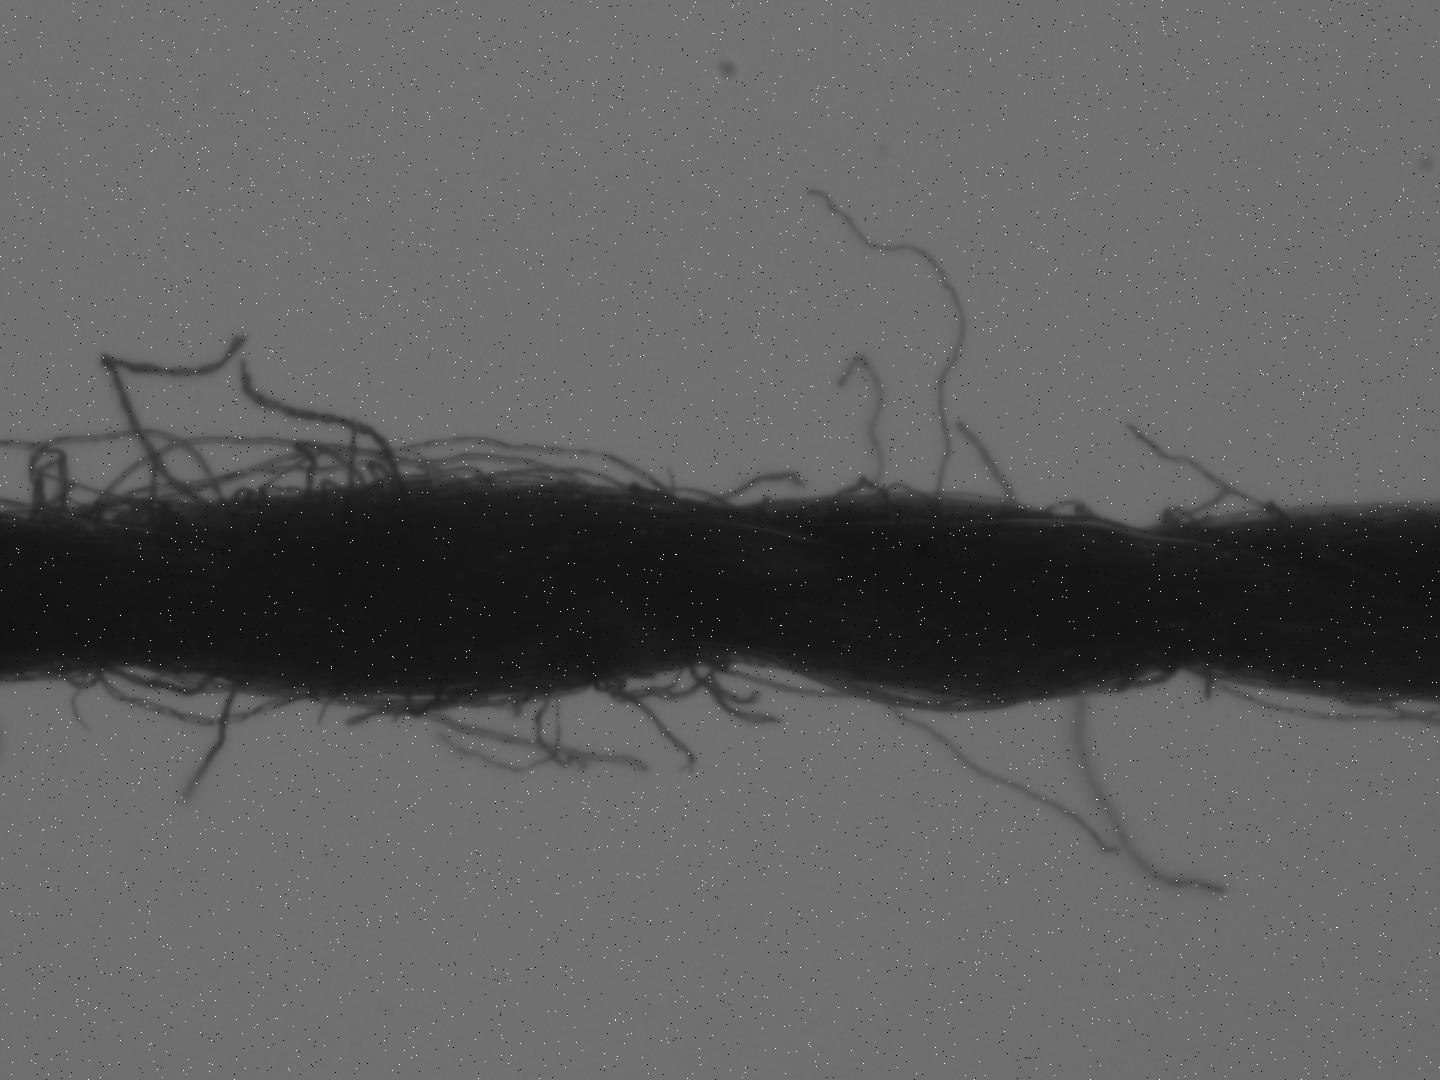loop_fiber: (82, 433, 313, 520), (95, 663, 317, 734), (789, 663, 1009, 718), (442, 465, 652, 503), (595, 664, 727, 707), (365, 456, 495, 495), (105, 660, 219, 703), (289, 437, 365, 500), (19, 447, 75, 520), (812, 474, 897, 513), (646, 483, 736, 520), (864, 481, 939, 516), (1035, 496, 1104, 524), (1151, 505, 1205, 540), (63, 664, 103, 693)
protruding_fiber: (1069, 690, 1230, 905), (176, 685, 236, 804)
